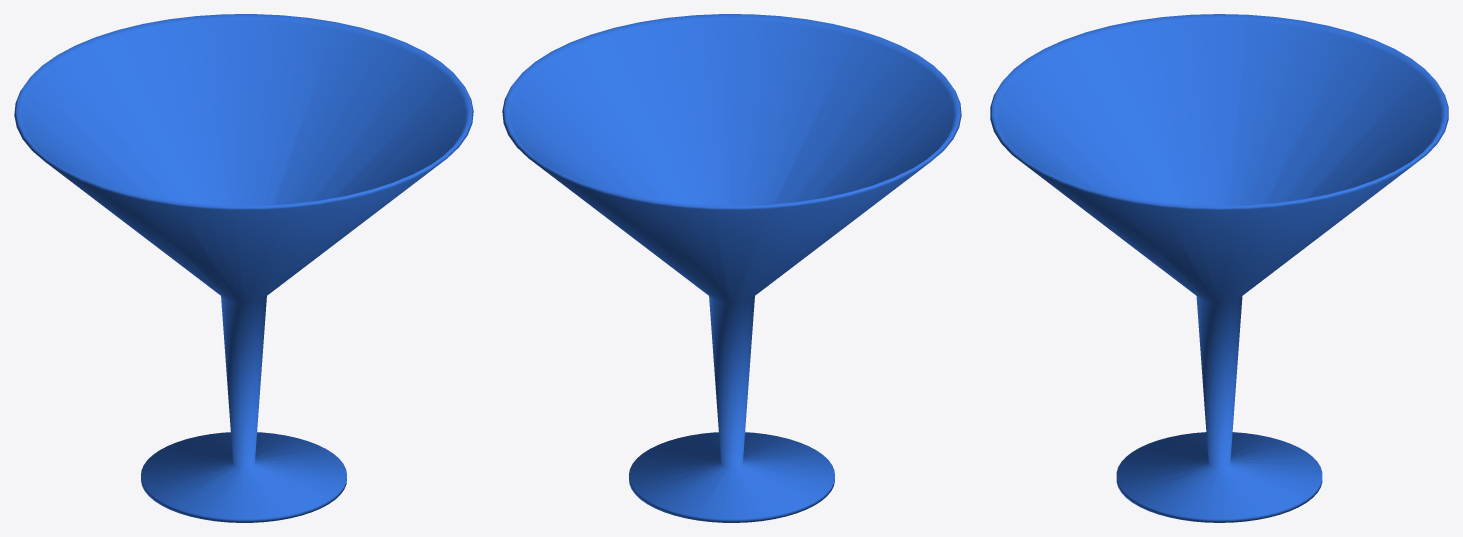
The model's file is DrinkGlass_6.fbx.
3 views of the same model, side by side, from view 1: azimuth 30°, elevation 25°; view 2: azimuth 150°, elevation 25°; view 3: azimuth 270°, elevation 25° (orthographic).
Parts seen in each view (by area): view 1: DrinkGlass 6; view 2: DrinkGlass 6; view 3: DrinkGlass 6.
Boxes of the visible parts, x1,y1,x2,y2 form: DrinkGlass 6: [14, 14, 473, 522]; DrinkGlass 6: [502, 14, 961, 522]; DrinkGlass 6: [990, 14, 1448, 522].
Size of the model in its own units: 0.1883 by 0.167 by 0.1879.
